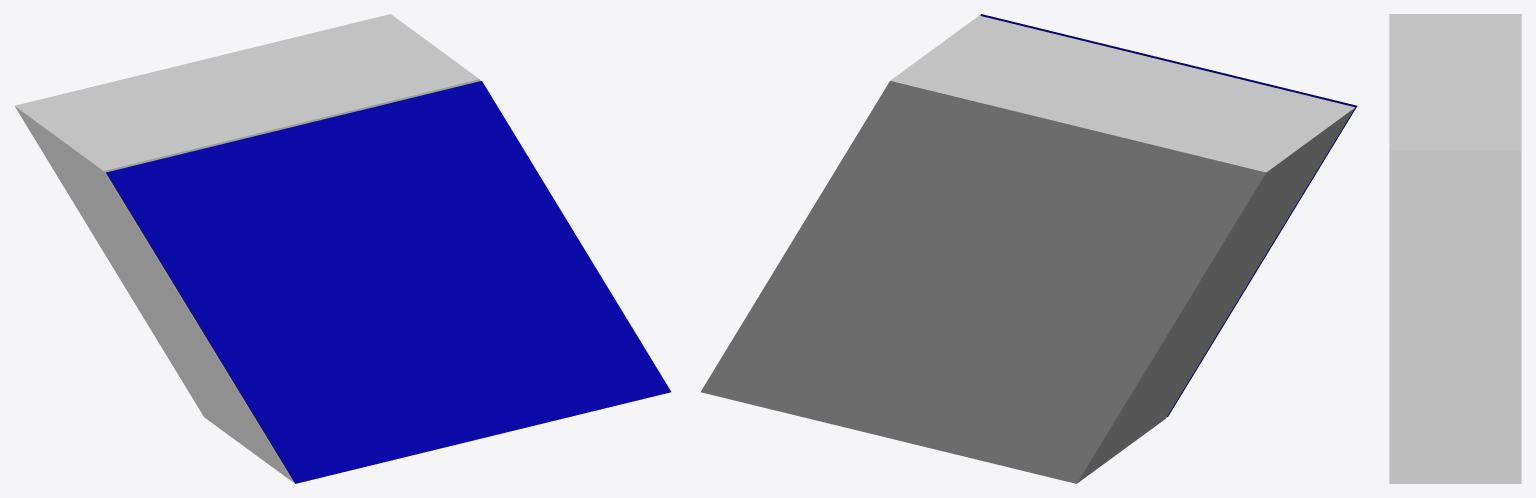
The model's file is DOTBloom.glb.
The picture shows the model from 3 angles, left to right: view 1: azimuth 30°, elevation 25°; view 2: azimuth 150°, elevation 25°; view 3: azimuth 270°, elevation 25°; orthographic projection. The views are drawn at different scales.
Visible parts, largest first — view 1: Plane, 3DGeom-4; view 2: 3DGeom-4, Plane; view 3: 3DGeom-4.
Boxes of the visible parts, x1,y1,x2,y2 form: Plane: (106,81,671,483); 3DGeom-4: (14,14,480,482); 3DGeom-4: (700,15,1354,483); Plane: (980,14,1357,416); 3DGeom-4: (1389,14,1521,483).
Bounding box in the file's own units: 13.19 × 7.97 × 3.69.
